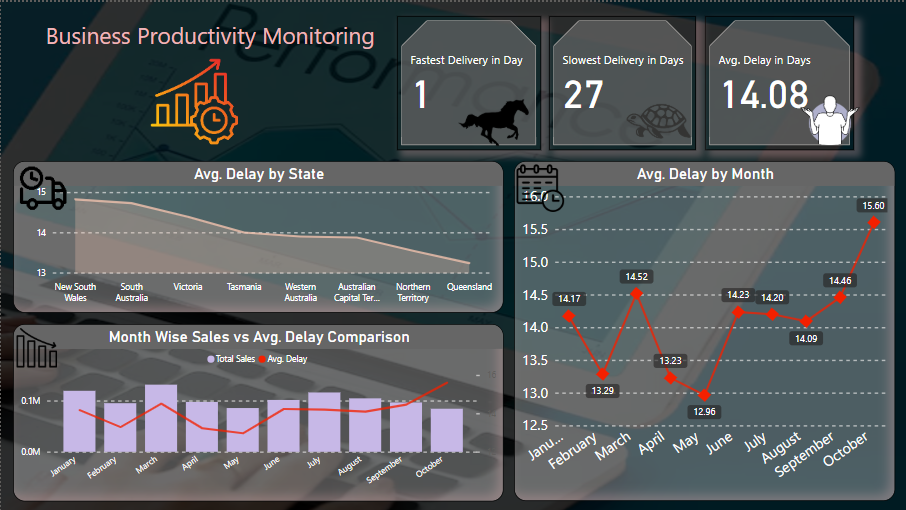

The page's visual inventory and layout, read from the dashboard file:
{"tool":"powerbi","page":{"name":"Service Quality Analysis","canvas":[1280,720],"ordinal":1},"visuals":[{"type":"cardVisual","fields":{"Data":["shirts orders.Avg. Delay"]},"box":[991.4,20,210,188.6],"z":0},{"type":"areaChart","title":"Avg. Delay by State","fields":{"Category":["shirts customers.state"],"Y":["shirts orders.Avg. Delay"]},"box":[17.1,224.3,691.4,214.3],"z":1000},{"type":"textbox","box":[16.7,20,555,80],"z":2000},{"type":"cardVisual","fields":{"Data":["shirts orders.Fastest Delivery in Day"]},"box":[557.1,20,202.9,188.6],"z":3000},{"type":"cardVisual","fields":{"Data":["shirts orders.Slowest Delivery in Days"]},"box":[771.4,20,207.1,188.6],"z":4000},{"type":"lineChart","title":"Avg. Delay by Month ","fields":{"Category":["shirts orders.Month Name"],"Y":["shirts orders.Avg. Delay"]},"box":[722.9,224.3,537.1,478.6],"z":5000},{"type":"lineClusteredColumnComboChart","title":"Month Wise Sales vs Avg. Delay Comparison","fields":{"Category":["shirts orders.Month Name"],"Y":["shirts sales.Total Sales"],"Y2":["shirts orders.Avg. Delay"]},"box":[17.1,452.9,691.4,250],"z":6000},{"type":"image","box":[640,114.3,108.6,111.4],"z":7000},{"type":"image","box":[875,115,103.3,105],"z":8000},{"type":"image","box":[0,208.3,66.7,61.7],"z":9000},{"type":"image","box":[710,208.3,50,61.7],"z":10000},{"type":"image","box":[8.3,440,50,48.3],"z":11000},{"type":"image","box":[1121.4,114.3,92.9,104.3],"z":12000},{"type":"image","box":[16.7,71.7,510,136.7],"z":13000}]}

Visuals, with their boxes in screenshot pixels (x1, y1, x2, y2), scaled from the page's 1280x720 canvas onto the 906x510 screenshot:
cardVisual - shirts orders.Avg. Delay: <region>702, 14, 850, 148</region>
"Avg. Delay by State" areaChart: <region>12, 159, 501, 311</region>
textbox: <region>12, 14, 405, 71</region>
cardVisual - shirts orders.Fastest Delivery in Day: <region>394, 14, 538, 148</region>
cardVisual - shirts orders.Slowest Delivery in Days: <region>546, 14, 693, 148</region>
"Avg. Delay by Month " lineChart: <region>512, 159, 892, 498</region>
"Month Wise Sales vs Avg. Delay Comparison" lineClusteredColumnComboChart: <region>12, 321, 501, 498</region>
image: <region>453, 81, 530, 160</region>
image: <region>619, 81, 692, 156</region>
image: <region>0, 148, 47, 191</region>
image: <region>503, 148, 538, 191</region>
image: <region>6, 312, 41, 346</region>
image: <region>794, 81, 859, 155</region>
image: <region>12, 51, 373, 148</region>
